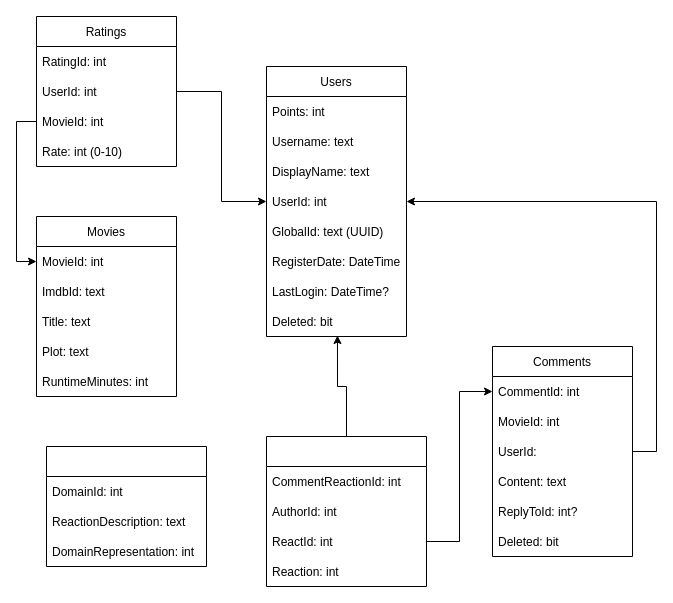
Image size: 673x603. Some labels were removed from this diagram. The shapes that lost their labels are listed below. From the top down, each one's box as (x1, y1, x2, y2) in pixels, then its label:
(46, 446, 206, 566): CommentReactionDomain
(266, 436, 426, 586): CommentReactions
